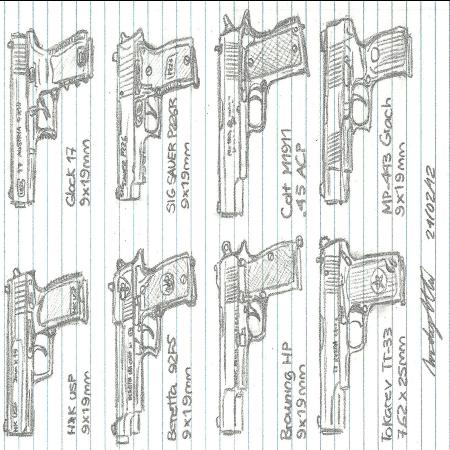Pistol: (312, 241, 416, 438), (213, 12, 309, 216), (213, 235, 303, 445), (317, 18, 418, 204), (109, 247, 199, 447), (111, 29, 201, 205), (6, 25, 92, 209), (1, 266, 86, 438)
